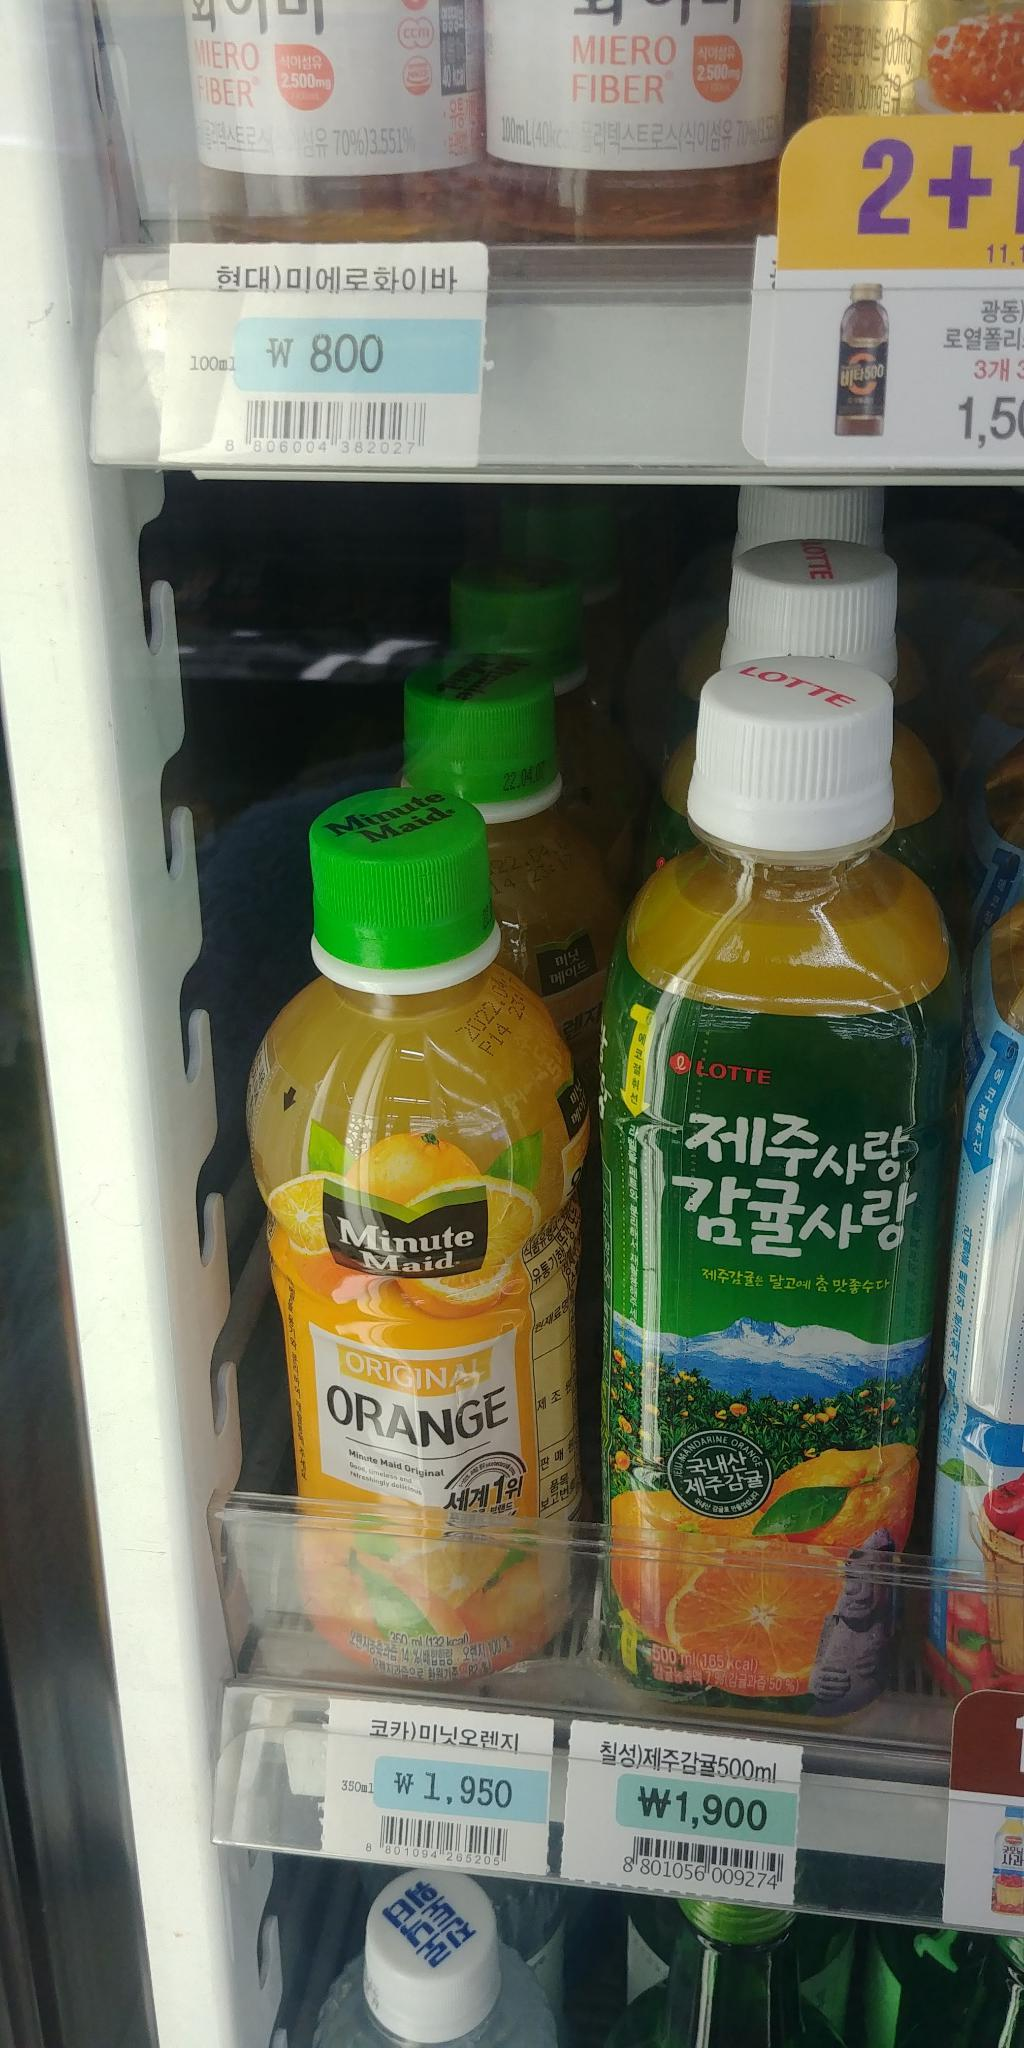minutemaid_org_orange: (235, 777, 606, 1668)
